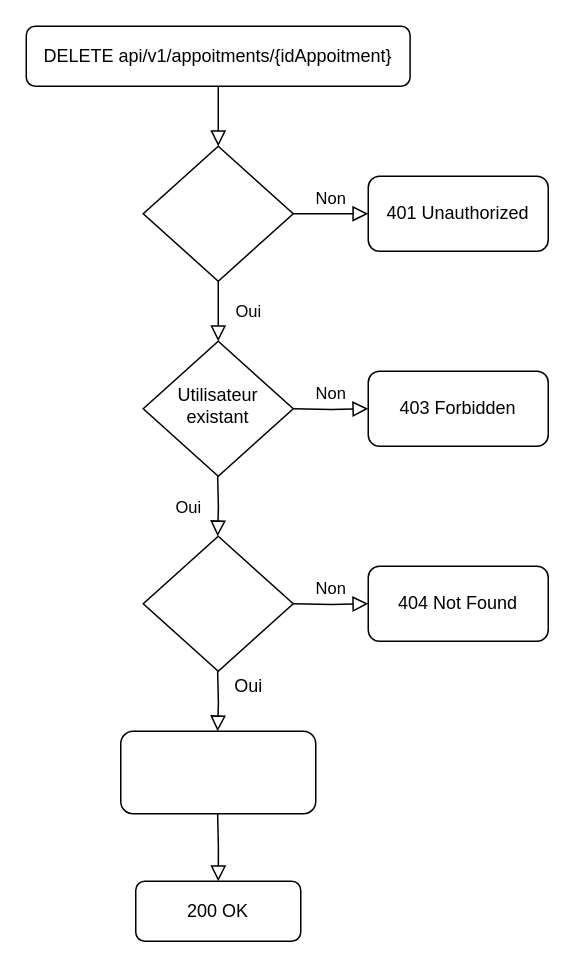
The diagram is 575 pixels wide and 968 high, and some of its shapes have lost their labels. The shapes that lost their labels are listed below. From the top down, each one's box as (x1, y1, x2, y2) in pixels, then its label:
(142, 145, 293, 281): Header Authorization présent
(142, 535, 293, 671): Rendez-vous à supprimer existant
(119, 730, 316, 814): Suppression du rendez-vous dans la base de données
